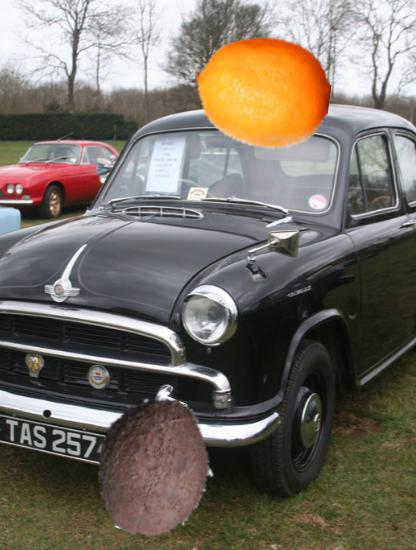Cocos: (83, 396, 224, 537)
Lemon: (192, 23, 330, 161)
